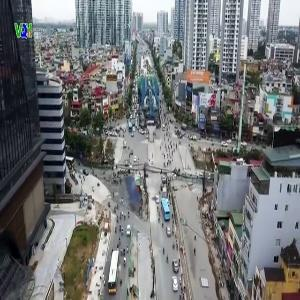drone: (100, 150, 183, 233)
